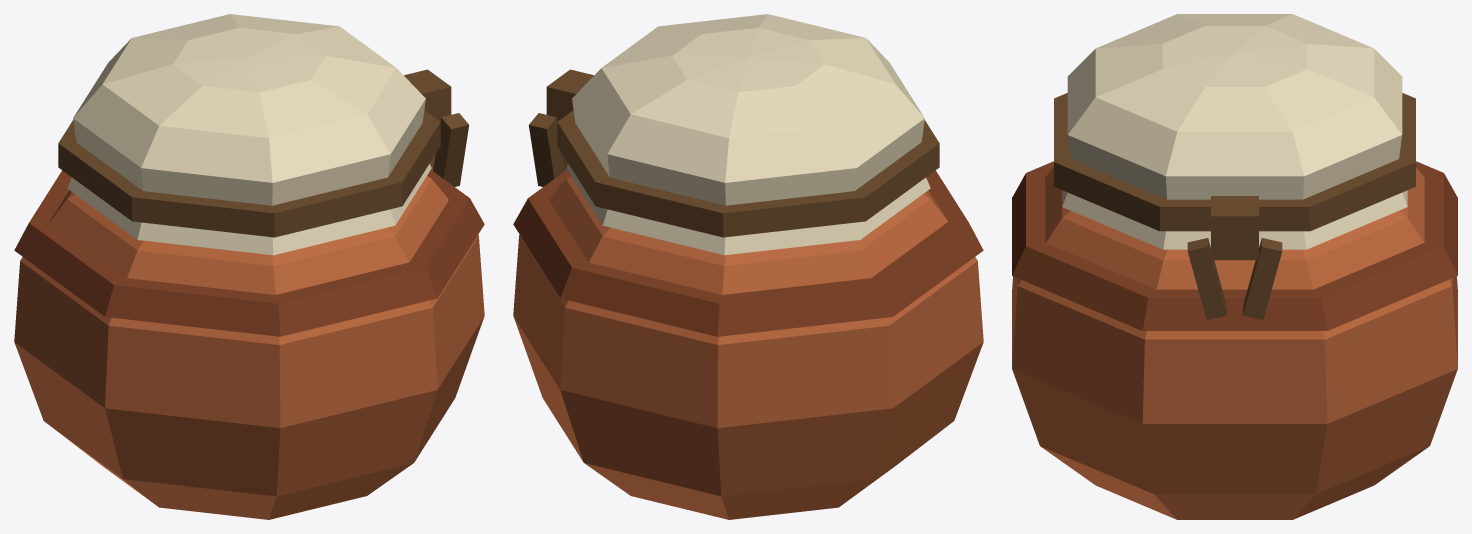
The model's file is prop-item-martha-ointment.glb.
3 renders of one model, left to right at view 1: azimuth 30°, elevation 25°; view 2: azimuth 150°, elevation 25°; view 3: azimuth 270°, elevation 25°, orthographic.
Visible parts, largest first — view 1: ItemMarthaOintment; view 2: ItemMarthaOintment; view 3: ItemMarthaOintment.
Part boxes in pixels (x1=…): ItemMarthaOintment: x1=14, y1=14, x2=484, y2=519; ItemMarthaOintment: x1=513, y1=14, x2=983, y2=519; ItemMarthaOintment: x1=1012, y1=14, x2=1457, y2=519.
Bounding box in the file's own units: 0.1504 × 0.149 × 0.1478.
